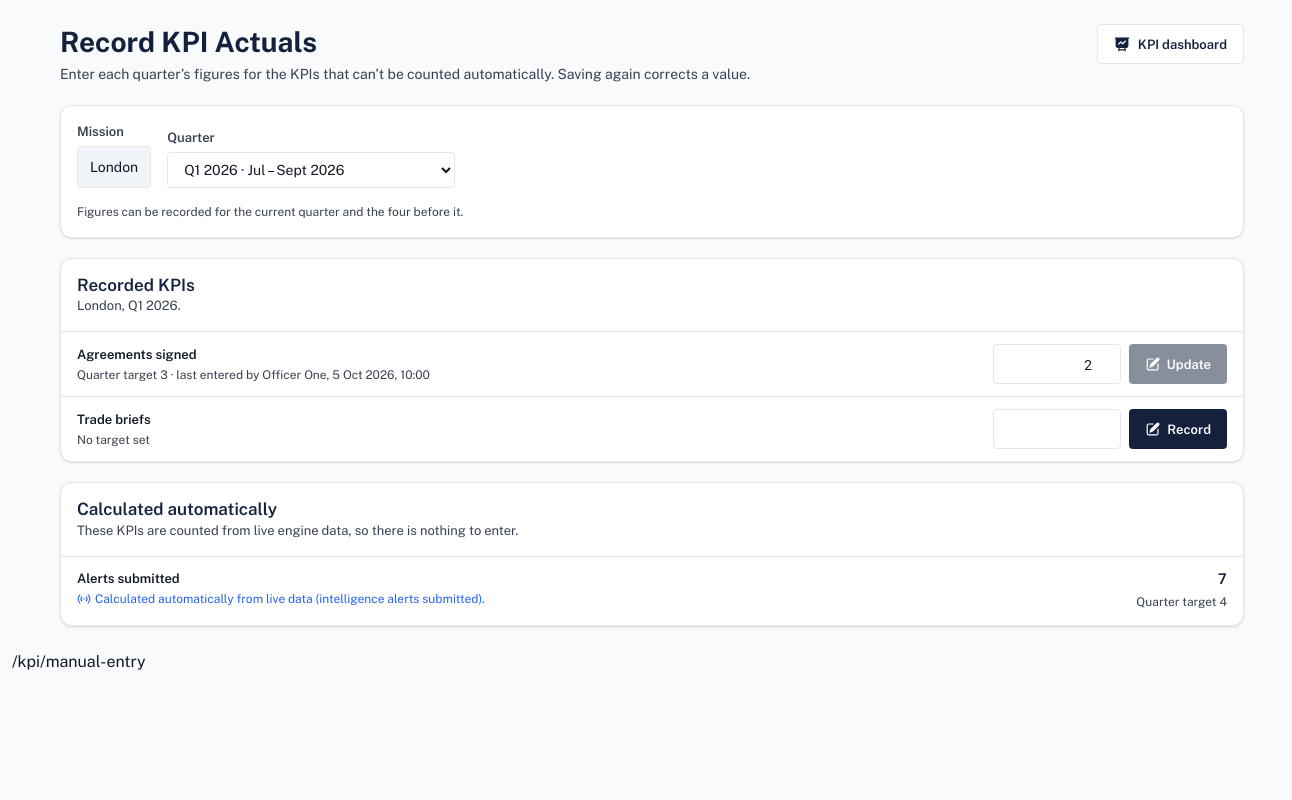
ManualKpiEntryPage › records a value for the chosen mission and quarter
The width and height of the screenshot is (1292, 800).
Type "4" into the number field labelled "Trade briefs" at x=1057, y=429, box [993, 409, 1121, 449]
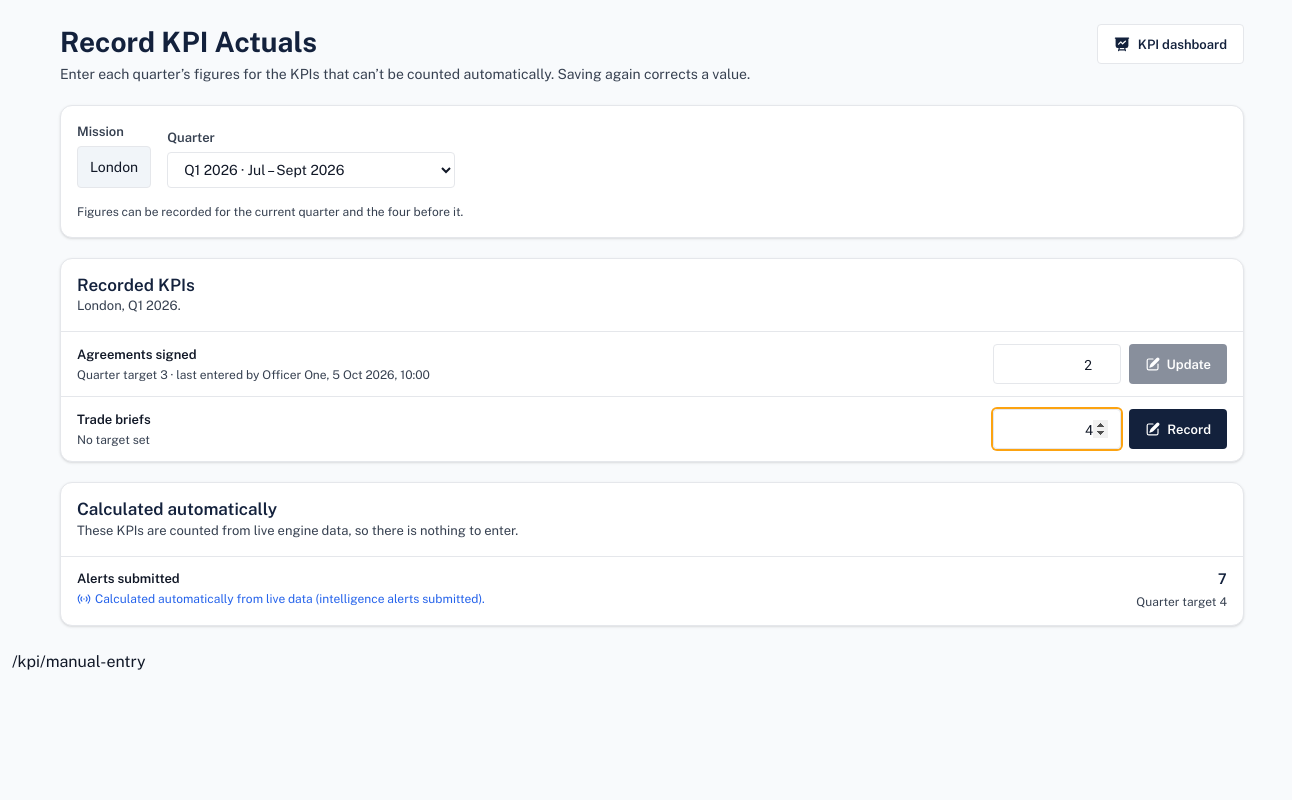
Click the button "Record" at x=1178, y=429, box [1129, 409, 1227, 449]
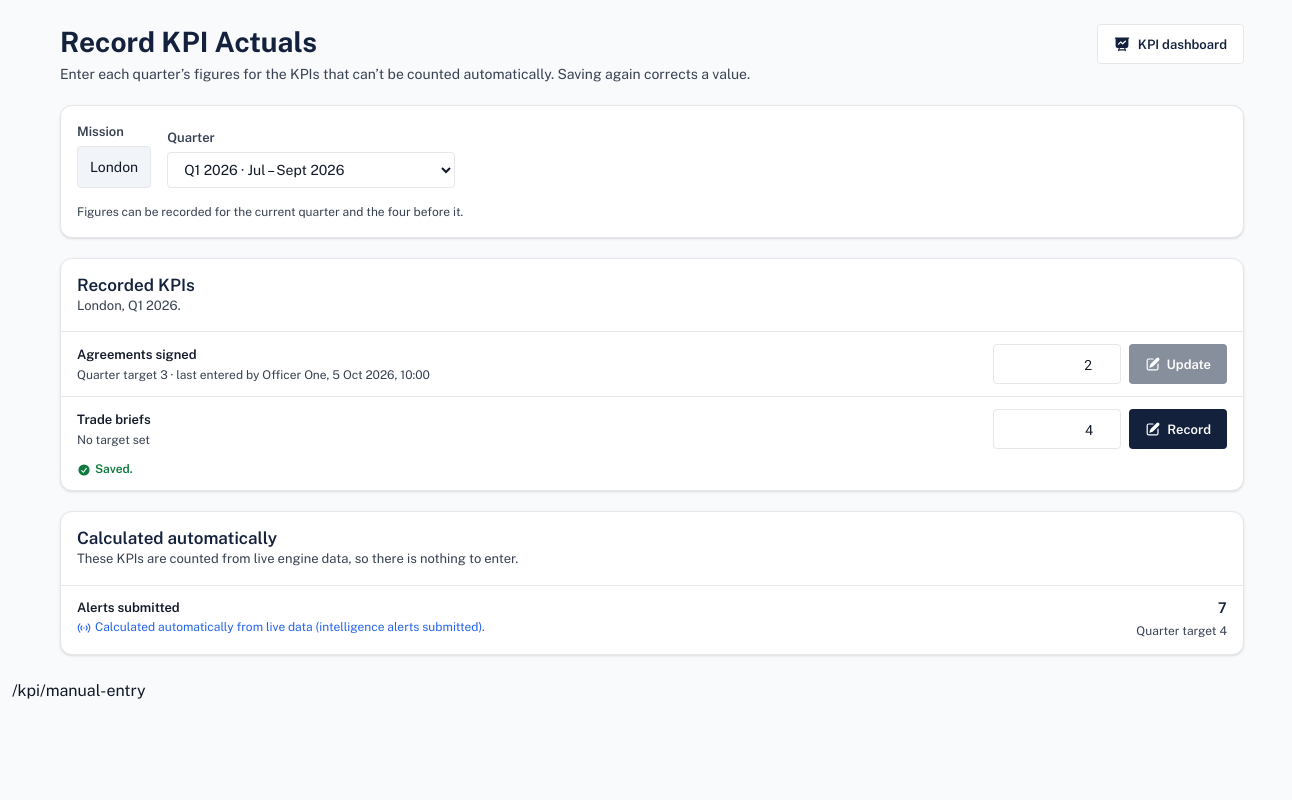
Now the text "Saved." is shown, box [77, 462, 133, 477]
